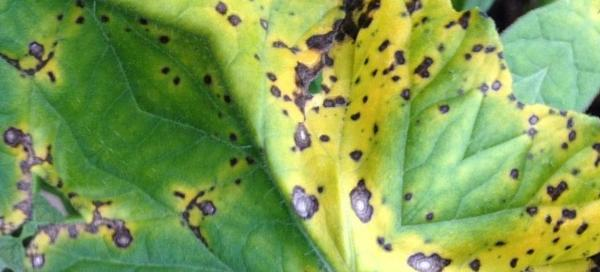Tomato Septoria leaf spot: (0, 0, 553, 272)
